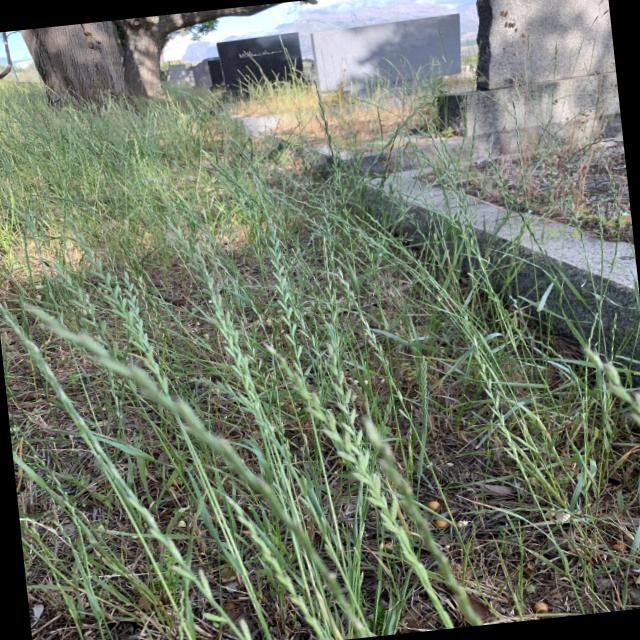Lolium: (0, 8, 640, 640), (70, 202, 319, 640), (344, 196, 561, 588), (5, 288, 213, 640), (259, 319, 480, 640), (190, 257, 360, 640), (458, 156, 596, 528)
